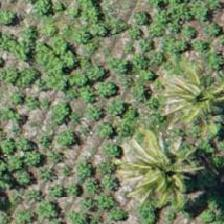coconut_tree: (124, 123, 214, 213), (132, 37, 222, 127)
